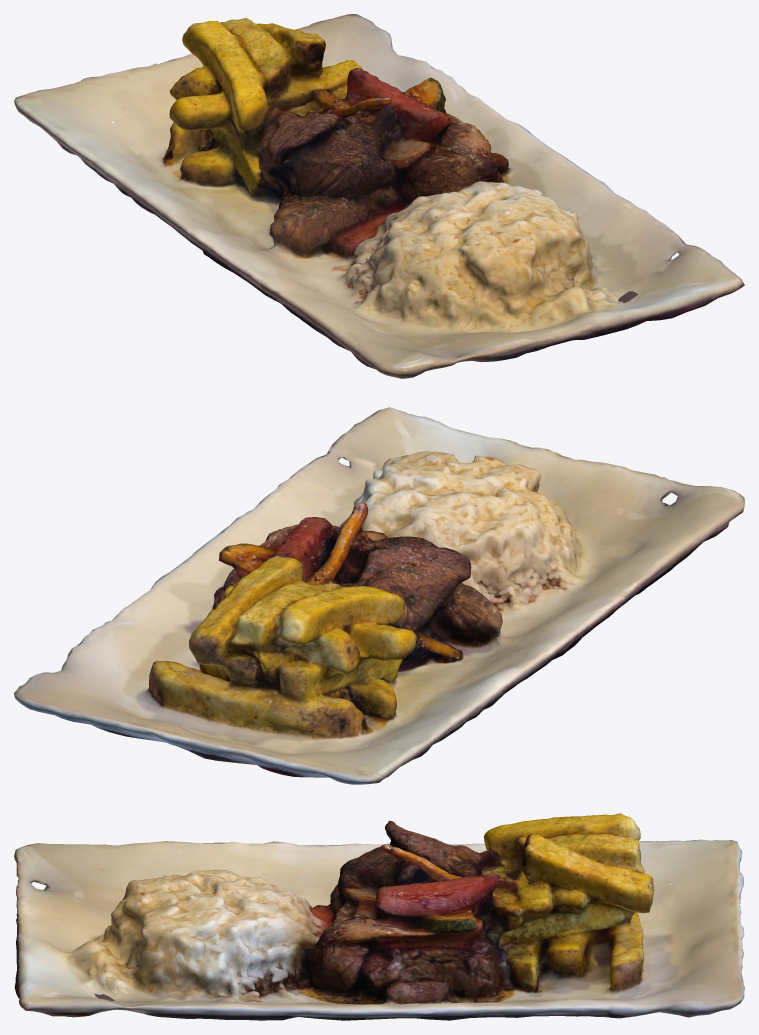
File: ar-lomo-saltado.glb
The picture shows the model from 3 angles, top to bottom: view 1: azimuth 30°, elevation 25°; view 2: azimuth 150°, elevation 25°; view 3: azimuth 270°, elevation 25°; orthographic projection. The views are drawn at different scales.
Parts seen in each view (by area): view 1: ObjectCapture; view 2: ObjectCapture; view 3: ObjectCapture.
Part boxes in pixels (x1,y1,x2,y2): ObjectCapture: (14, 14, 744, 378); ObjectCapture: (14, 407, 744, 784); ObjectCapture: (14, 813, 744, 1020).
Size of the model in its own units: 0.1935 by 0.0712 by 0.3496.
1 material, 1 textured.
